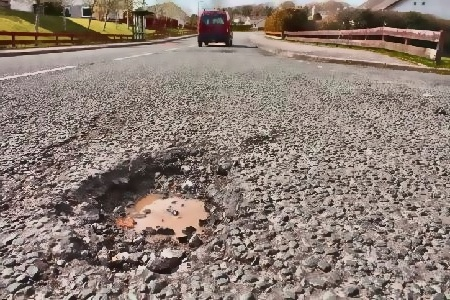pothole: (54, 147, 241, 279)
